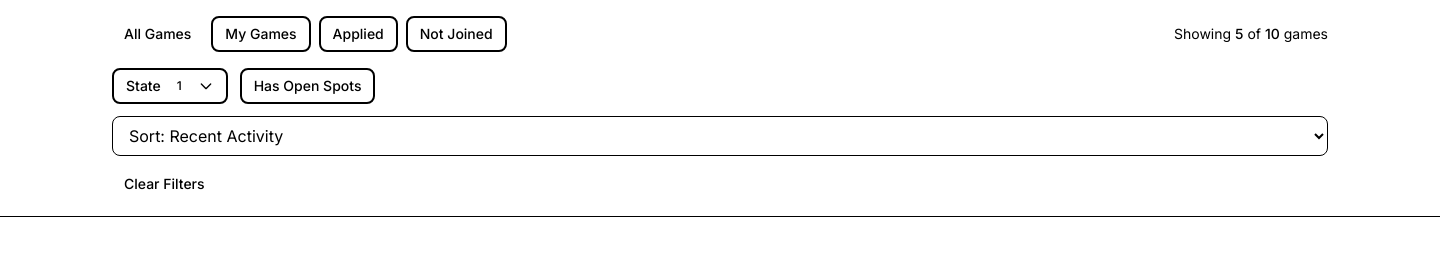
Test case: FilterBar › State Dropdown › checks selected states in dropdown
This screenshot has width=1440, height=268.
Click the button "State 1". click: [170, 86]
box: x1=112 y1=68 x2=228 y2=104
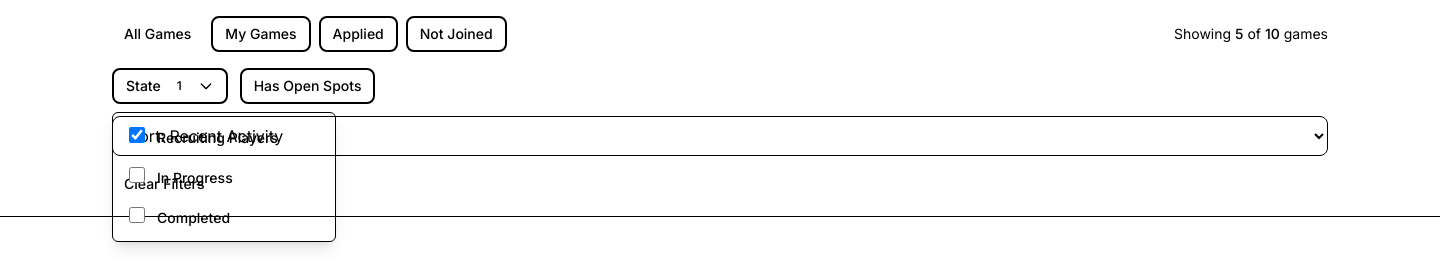
Expected: the checkbox labelled "Recruiting Players" is checked, x1=129 y1=127 x2=145 y2=143
